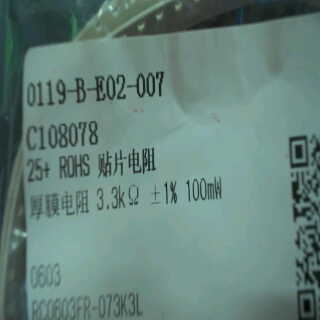3.3kO: (92, 174, 139, 217)
